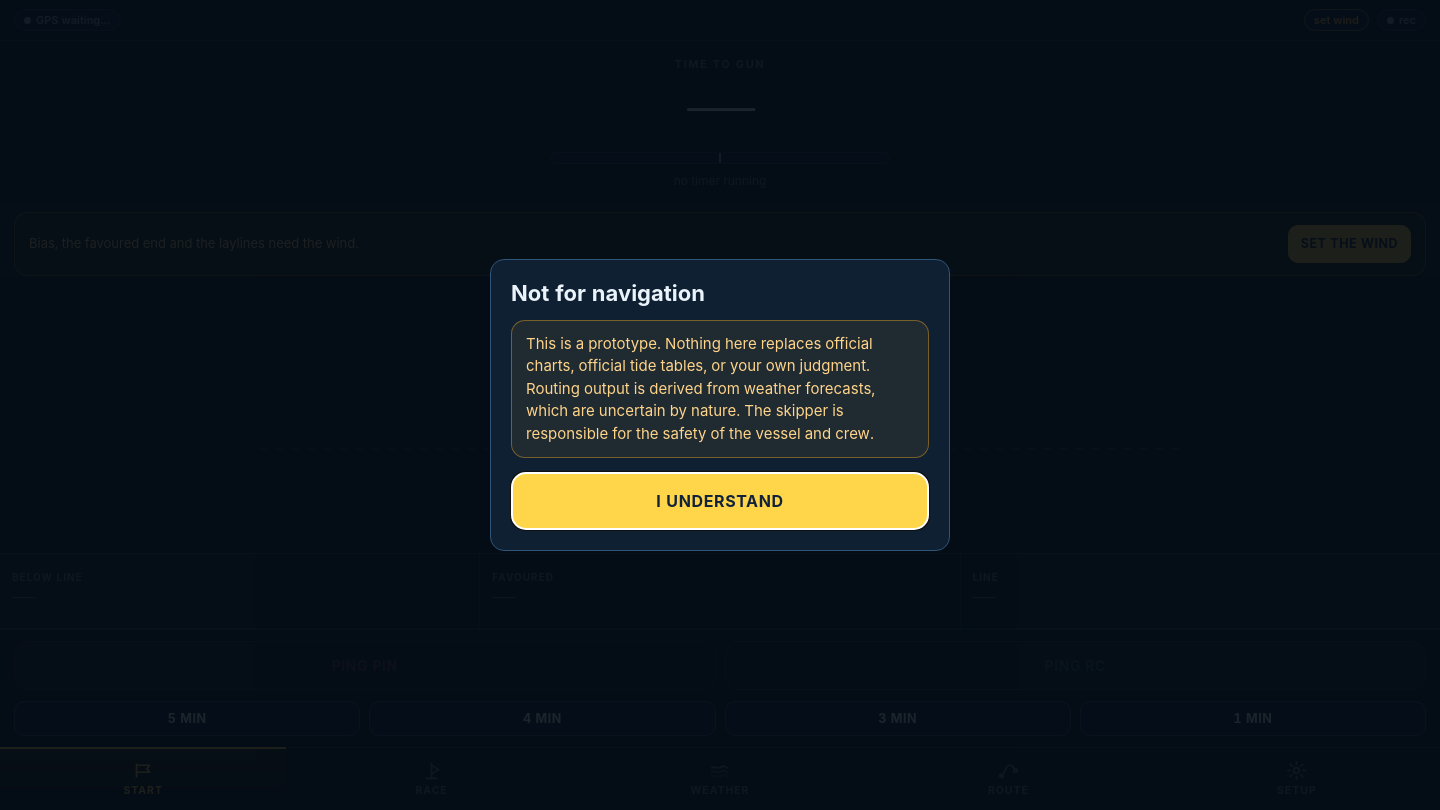
Test case: not for navigation, before first use › remembers the answer in what survives a reload
Click the button "I UNDERSTAND" at (720, 501), box [511,472,929,530]
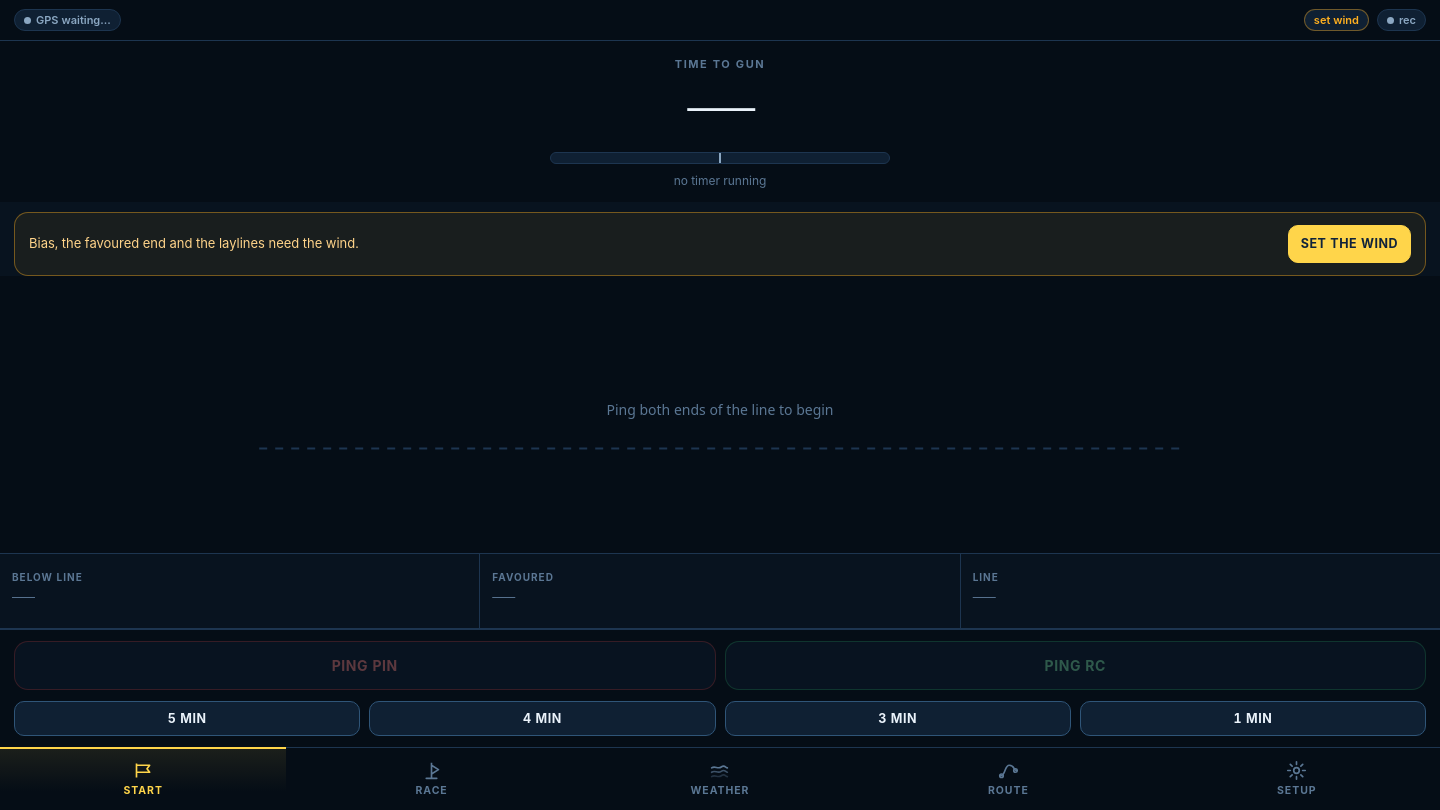
Check: the heading "Not for navigation" is gone
